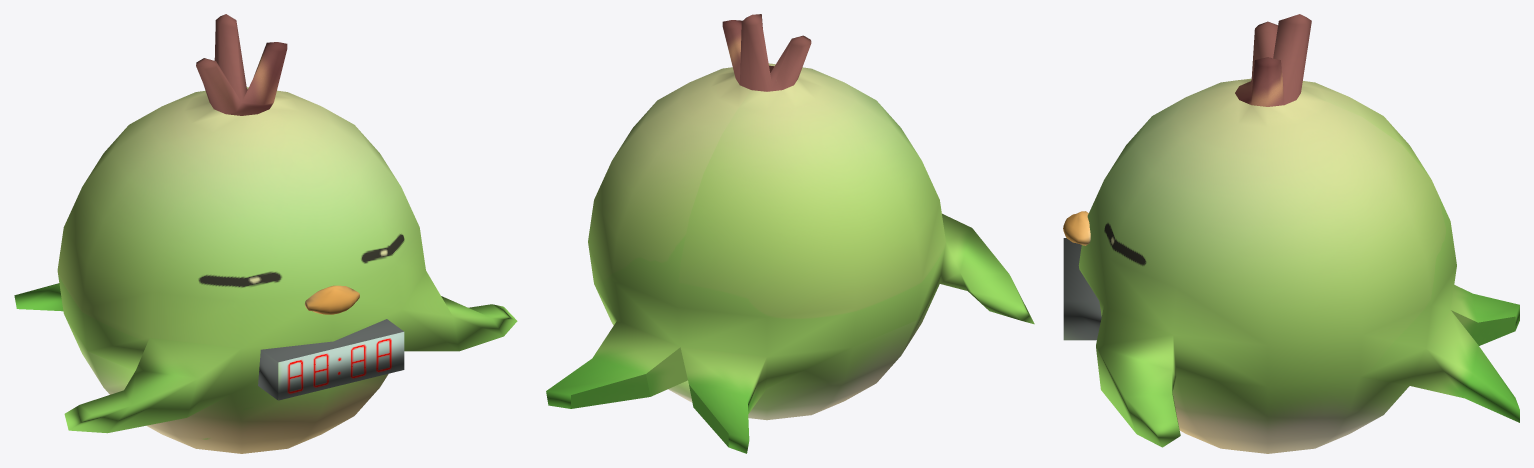
Rendered from FreezeBomb.fbx.
The picture shows the model from 3 angles, left to right: view 1: azimuth 30°, elevation 25°; view 2: azimuth 150°, elevation 25°; view 3: azimuth 270°, elevation 25°; orthographic projection. The views are drawn at different scales.
Visible parts, largest first — view 1: Cube; view 2: Cube; view 3: Cube.
Part boxes in pixels (left/top/right/bottom): Cube: left=14, top=14, right=517, bottom=453; Cube: left=546, top=14, right=1034, bottom=453; Cube: left=1063, top=14, right=1519, bottom=453.
Size of the model in its own units: 281 by 247 by 242.
Materials: 1 (1 with a texture image).
